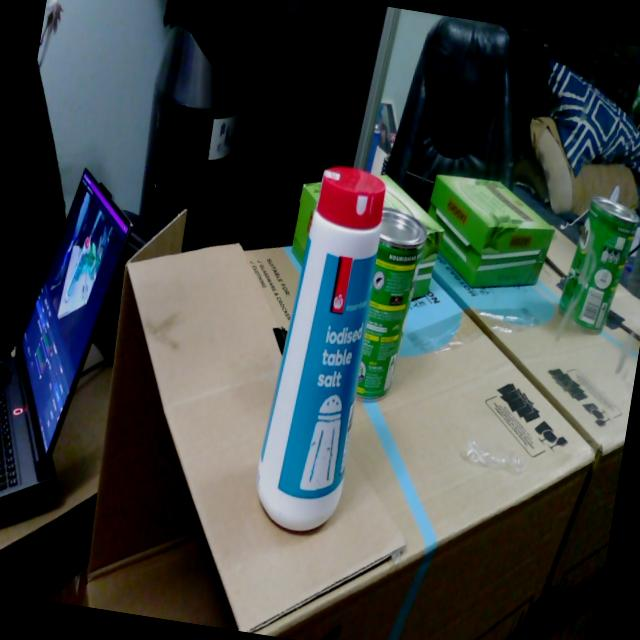nestle_milo_tin: (356, 208, 427, 402)
twinings_greentea_box: (378, 175, 445, 299), (291, 183, 321, 267)
woolworths_salt_bottle: (258, 167, 385, 531)
